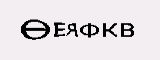В: (120, 22, 136, 39)
Е: (52, 21, 67, 39)
К: (101, 22, 118, 38)
Ф: (79, 22, 100, 39)
Я: (64, 22, 78, 37)
Ө: (20, 18, 50, 40)
